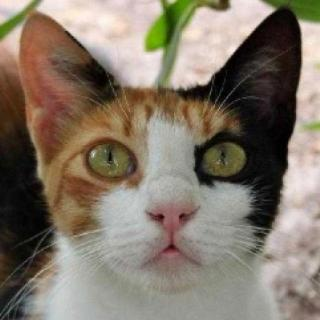cat: (18, 11, 305, 287)
nose: (138, 186, 203, 234)
